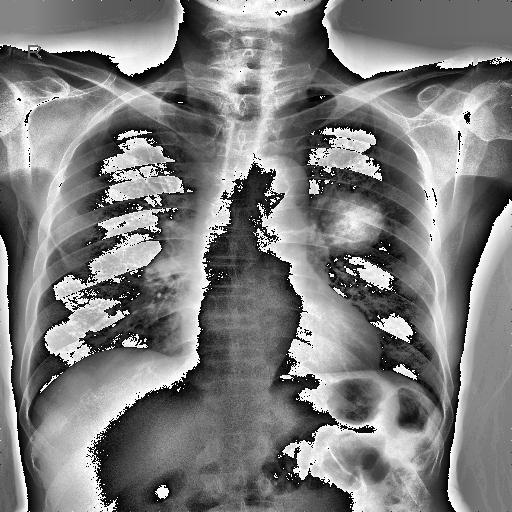0- Aortic enlargement: (249, 152, 310, 210)
8- Nodule-Mass: (320, 190, 384, 254), (320, 188, 386, 250), (318, 195, 385, 248)
